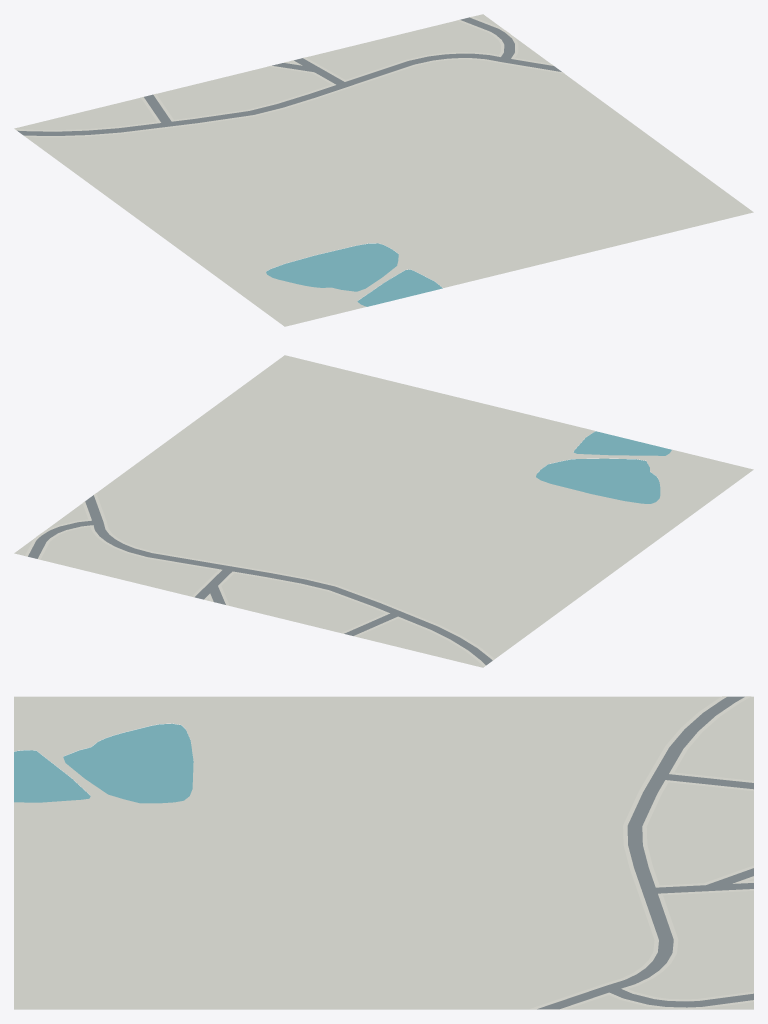
The picture shows the model from 3 angles, top to bottom: view 1: azimuth 30°, elevation 25°; view 2: azimuth 150°, elevation 25°; view 3: azimuth 270°, elevation 25°; orthographic projection. The views are drawn at different scales.
Parts seen in each view (by area): view 1: city; view 2: city; view 3: city.
Boxes of the visible parts, box(x1,y1,x2,y2) form: city: box(14, 14, 753, 326); city: box(14, 355, 753, 667); city: box(14, 696, 753, 1009).
Size of the model in its own units: 500 by 0.4 by 500.
